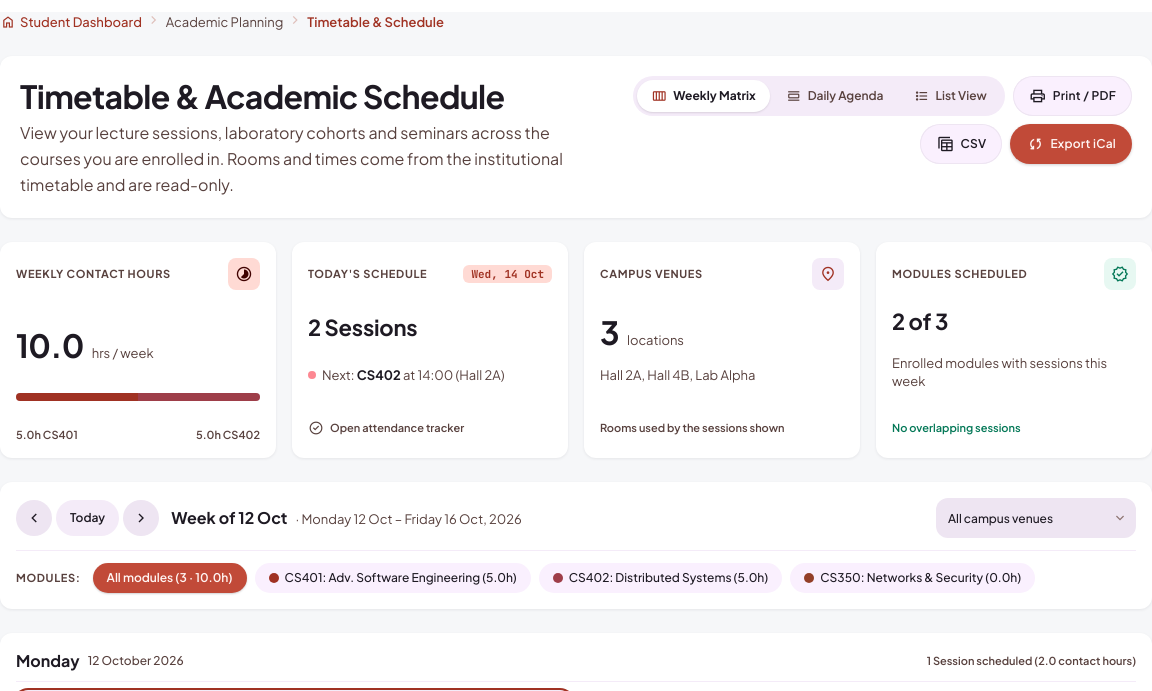
Test: student timetable › week navigation asks for the neighbouring weeks
The width and height of the screenshot is (1152, 691).
Click the button named "Next week": {"x": 141, "y": 518} [123,500,159,536]
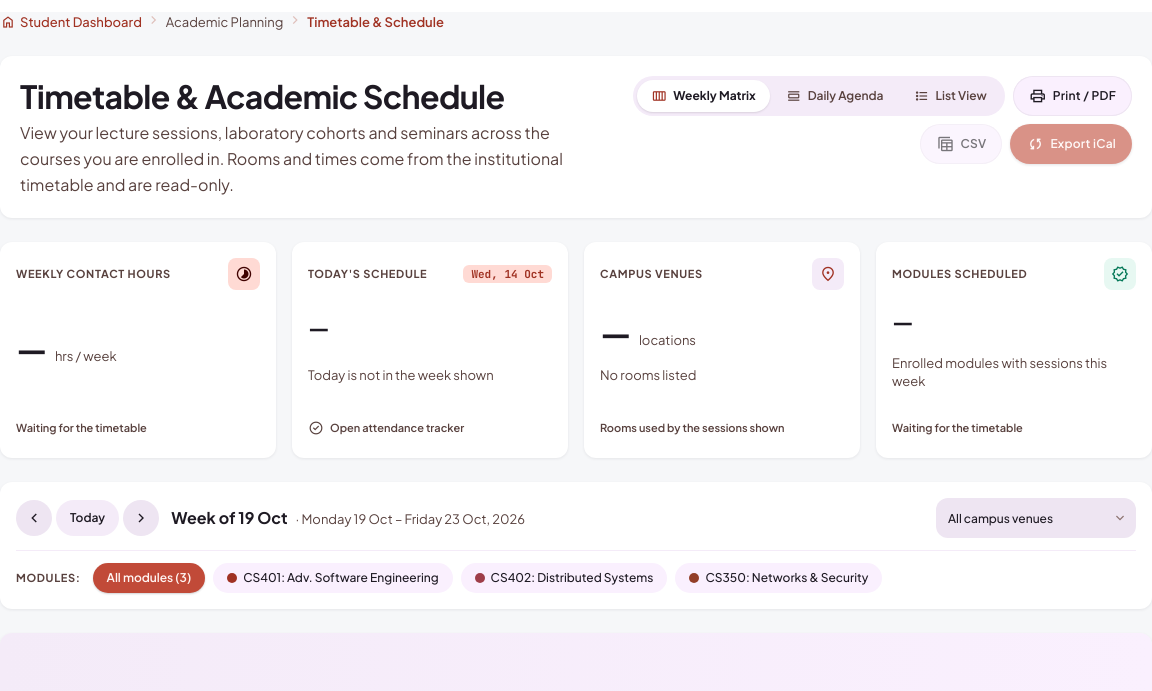
Result: the text "Week of 19 Oct" is shown at [171,506,288,530]
Click the button named "Previous week": {"x": 34, "y": 518} [16,500,52,536]
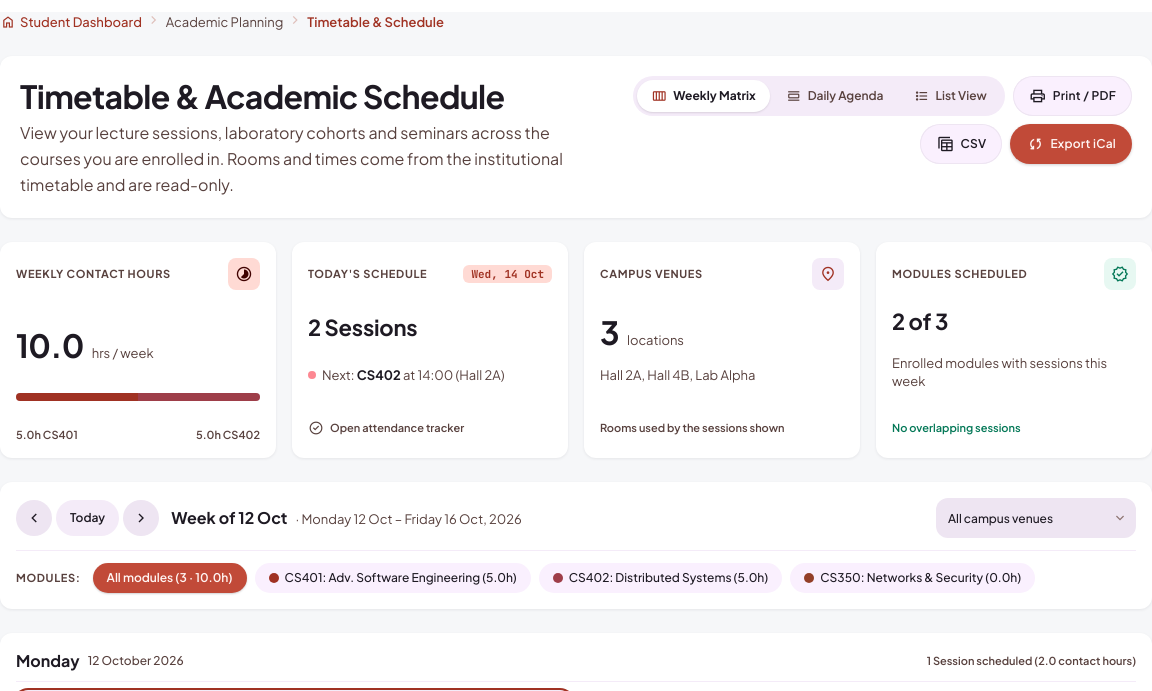
Click the button named "Previous week": {"x": 34, "y": 518} [16,500,52,536]
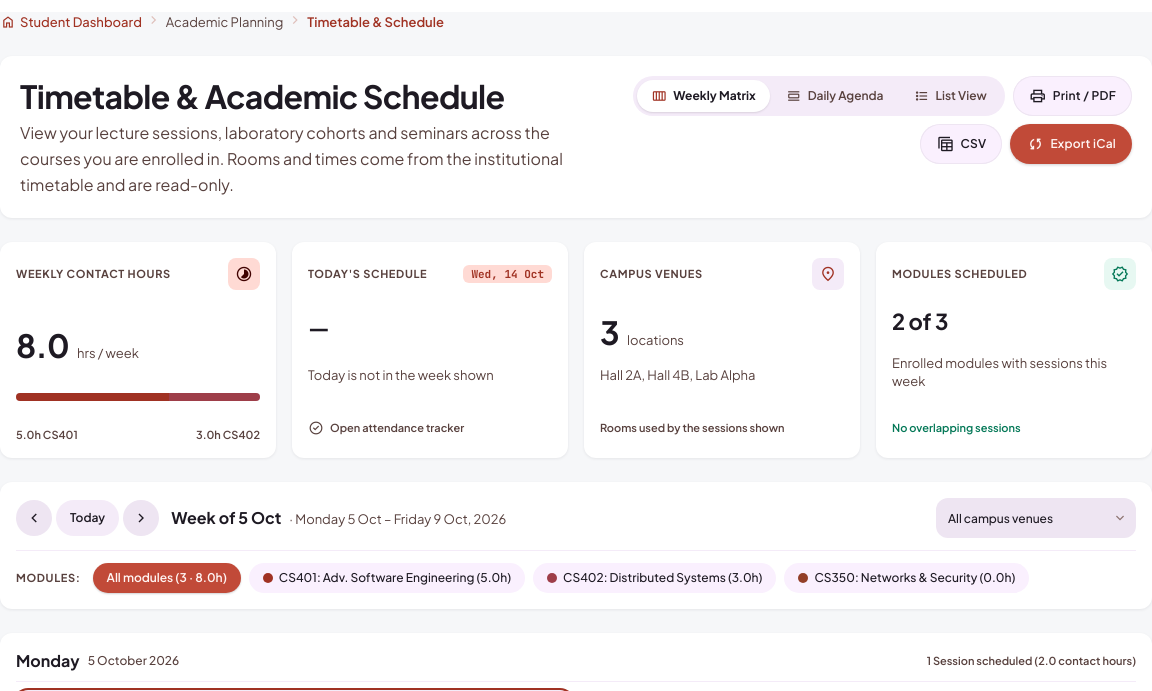
Click the button "Today": {"x": 88, "y": 518} [56,500,119,536]
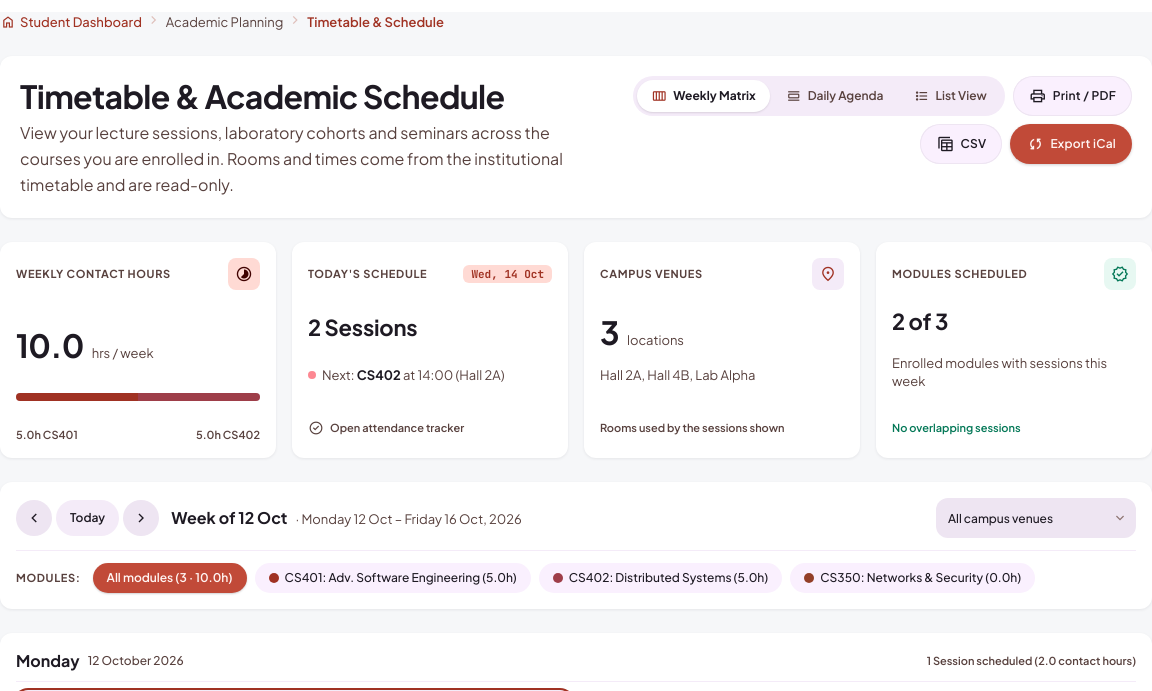
Result: the text "Week of 12 Oct" is shown at [171,506,288,530]
